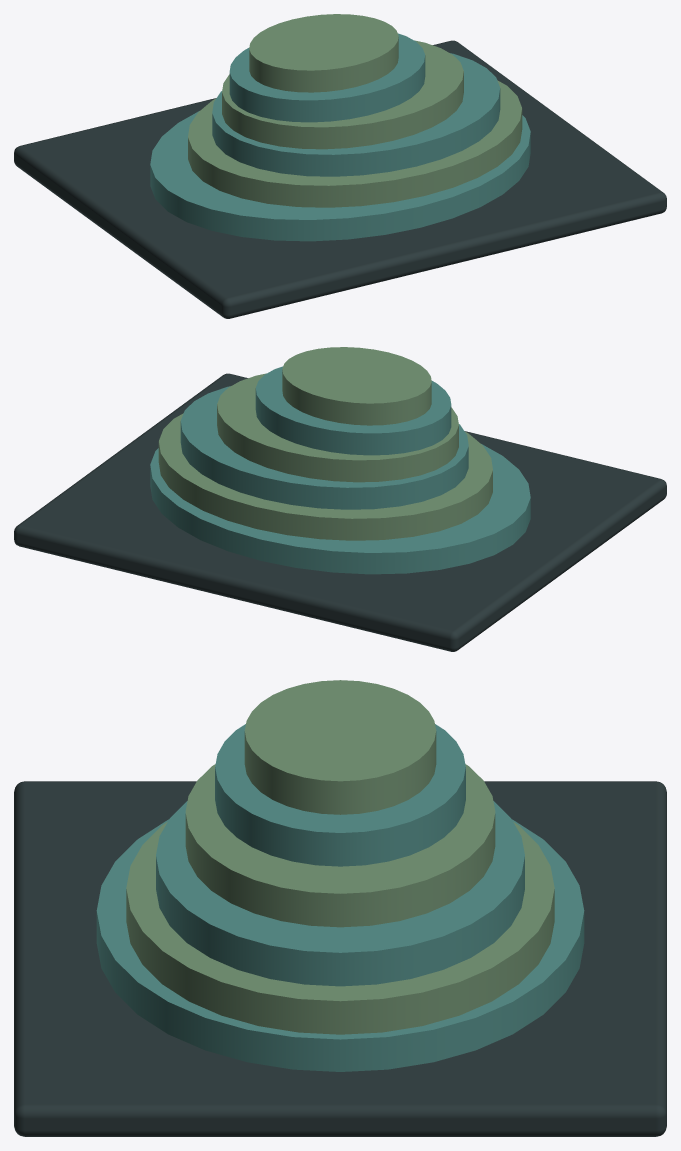
The model's file is terrain.glb.
The picture shows the model from 3 angles, top to bottom: view 1: azimuth 30°, elevation 25°; view 2: azimuth 150°, elevation 25°; view 3: azimuth 270°, elevation 25°; orthographic projection. The views are drawn at different scales.
Visible parts, largest first — view 1: terrain; view 2: terrain; view 3: terrain.
Part boxes in pixels (box(x1,y1,x2,y2)): terrain: box(14, 14, 666, 318); terrain: box(14, 347, 666, 651); terrain: box(14, 680, 666, 1136).
Bounding box in the file's own units: 1.8 × 0.5875 × 1.5.
